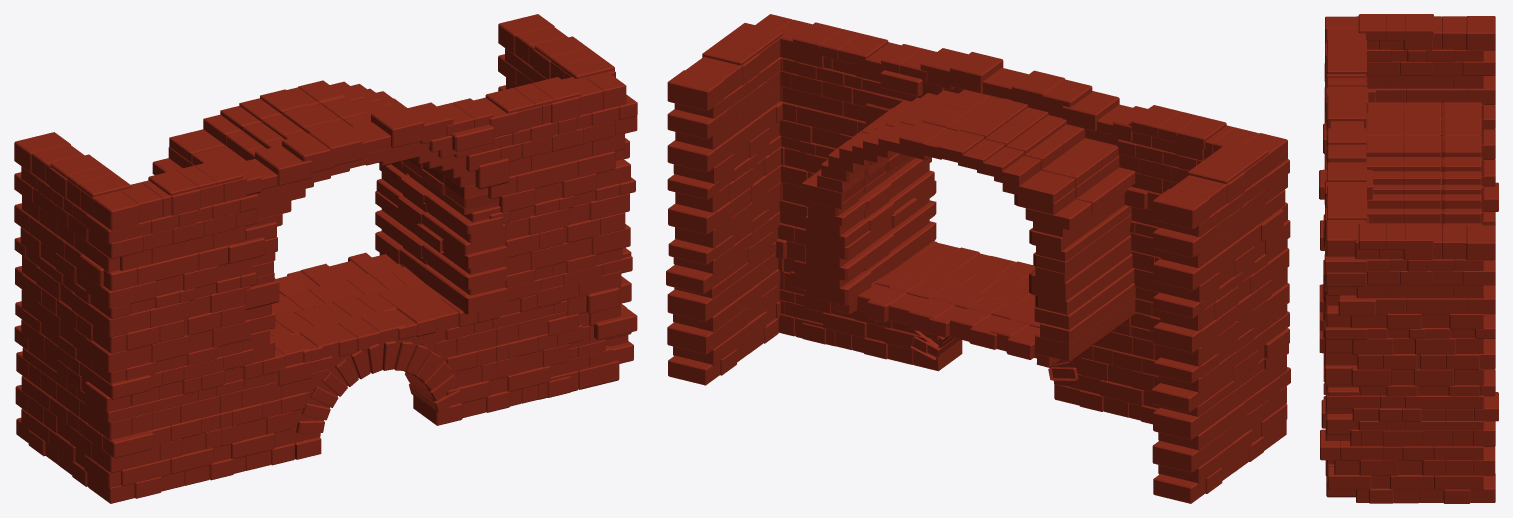
File: FogaoLenha.fbx
3 renders of one model, left to right at view 1: azimuth 30°, elevation 25°; view 2: azimuth 150°, elevation 25°; view 3: azimuth 270°, elevation 25°, orthographic. The views are drawn at different scales.
Parts seen in each view (by area): view 1: FogaoLenha; view 2: FogaoLenha; view 3: FogaoLenha.
Boxes of the visible parts, <box> form: FogaoLenha: <box>14,14,637,503</box>; FogaoLenha: <box>666,14,1290,503</box>; FogaoLenha: <box>1319,14,1498,503</box>.
Bounding box in the file's own units: 1095 × 604 × 363.
